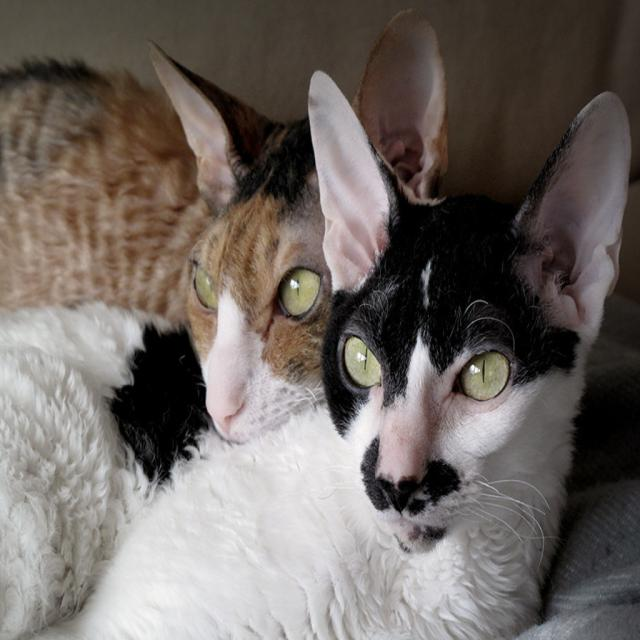Cat: (0, 68, 631, 639), (0, 8, 449, 639)
